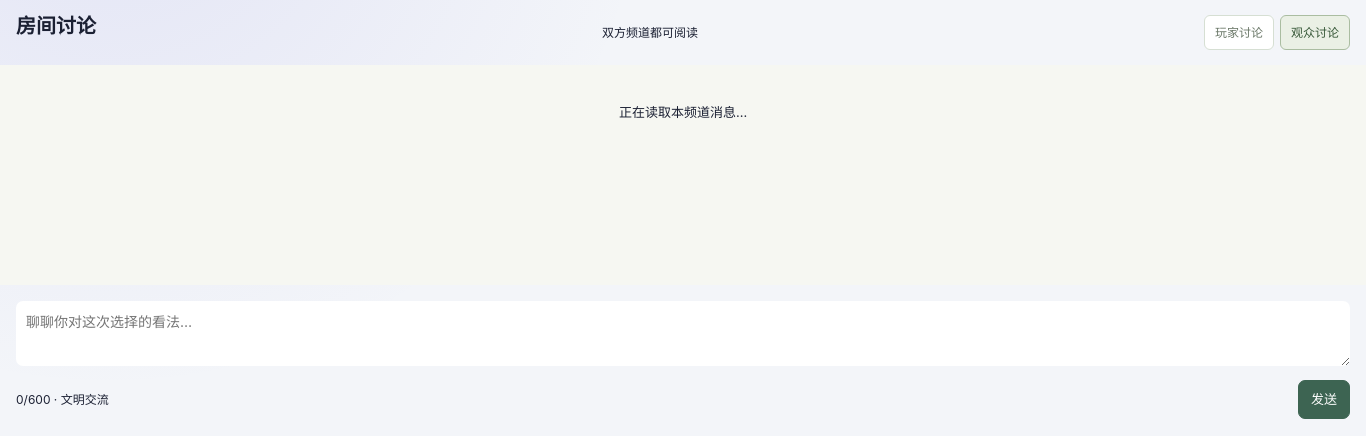
Test: rail workspace › lets spectators read player chat but write only in the spectator channel
The image size is (1366, 436).
Check: the text box named "观众讨论消息" is shown, box [16,301,1350,366]
Click the tab "玩家讨论": (1239, 32) [1204,15,1274,50]
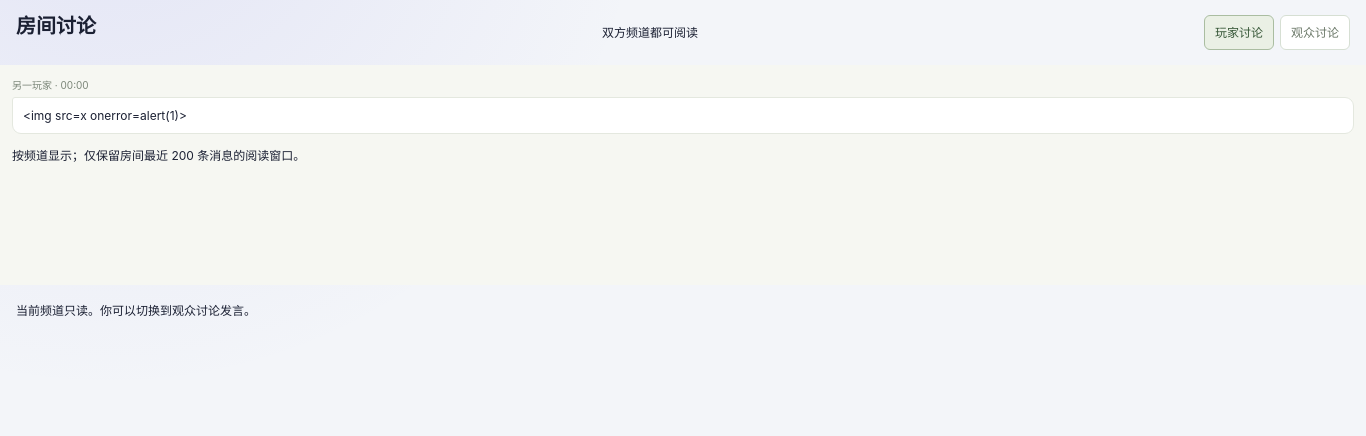
Check: the text "<img src=x onerror=alert(1)>" is shown, box [12,97,1354,134]
Check: the button "发送" is gone
Check: the text "当前频道只读" is shown, box [16,303,256,318]
